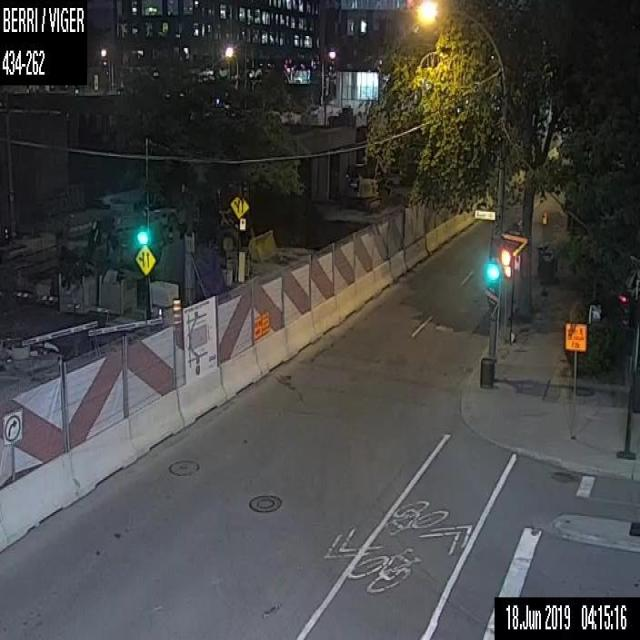construction: (564, 320, 584, 435)
